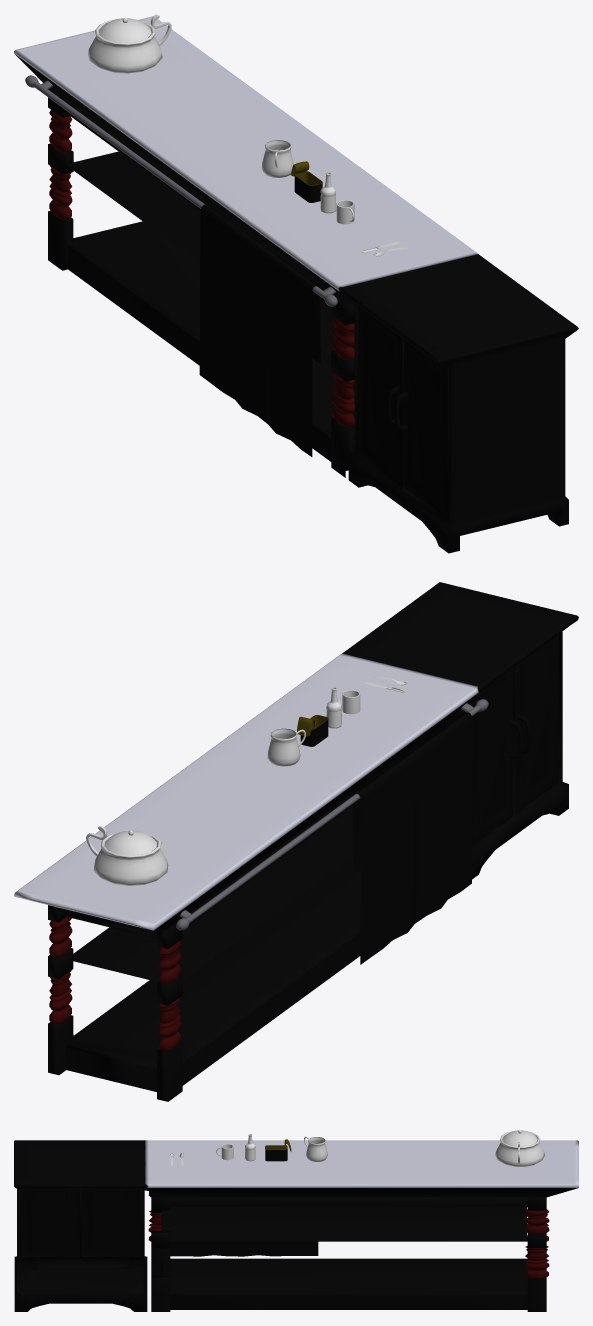
Rendered from Kitchen_Props.fbx.
3 renders of one model, top to bottom at view 1: azimuth 30°, elevation 25°; view 2: azimuth 150°, elevation 25°; view 3: azimuth 270°, elevation 25°, orthographic. The views are drawn at different scales.
Visible parts, largest first — view 1: KitchenCounter, KitchenProps9, KitchenProps23, KitchenProps22; view 2: KitchenCounter, KitchenProps9, KitchenProps23, KitchenProps22; view 3: KitchenCounter, KitchenProps9, KitchenProps23, KitchenProps22.
Part boxes in pixels (bbox=[...]): KitchenCounter: bbox=[14, 16, 578, 553]; KitchenProps9: bbox=[88, 14, 171, 73]; KitchenProps23: bbox=[261, 140, 293, 177]; KitchenProps22: bbox=[291, 161, 322, 202]; KitchenCounter: bbox=[14, 582, 578, 1101]; KitchenProps9: bbox=[86, 826, 168, 885]; KitchenProps23: bbox=[267, 728, 305, 766]; KitchenProps22: bbox=[297, 715, 328, 746]; KitchenCounter: bbox=[14, 1140, 578, 1311]; KitchenProps9: bbox=[495, 1130, 544, 1166]; KitchenProps23: bbox=[304, 1136, 327, 1161]; KitchenProps22: bbox=[265, 1139, 291, 1161].
Bounding box in the file's own units: 0.8694 × 1.32 × 4.2.
